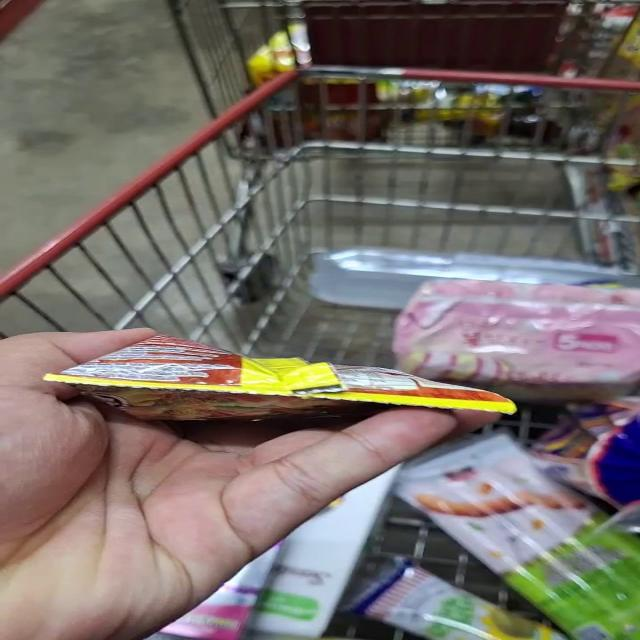Maggi Cukup Rasa: (77, 326, 524, 445)
